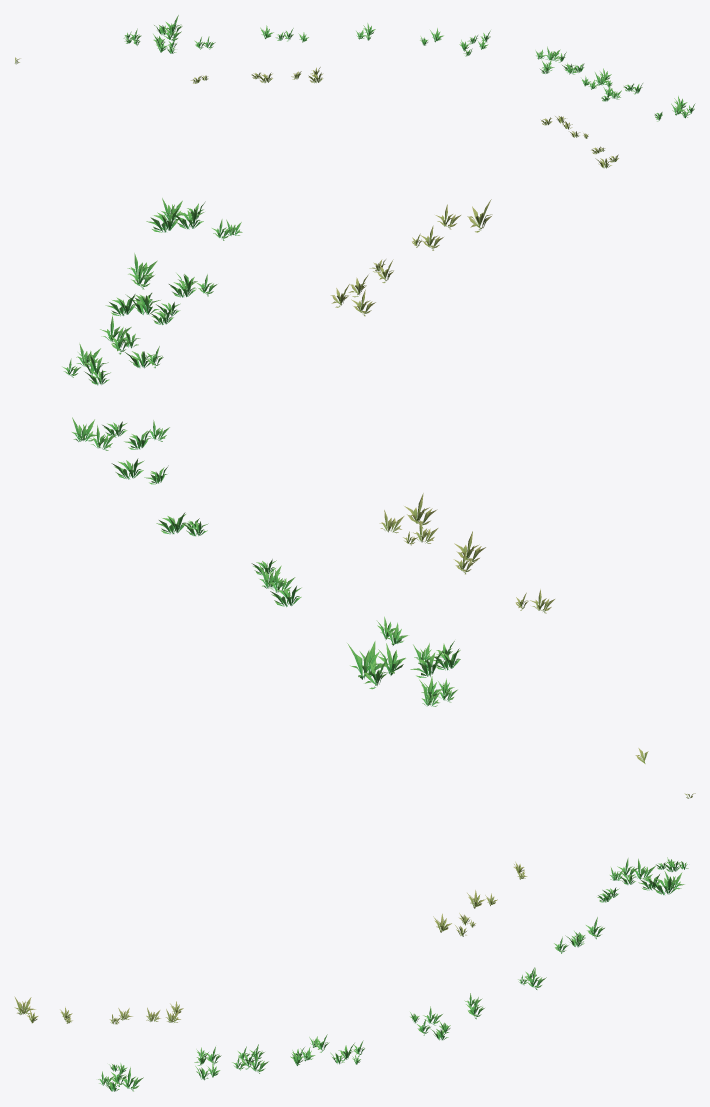
Rendered from area_11_10.fbx.
3 views of the same model, one above another, from view 1: azimuth 30°, elevation 25°; view 2: azimuth 150°, elevation 25°; view 3: azimuth 270°, elevation 25° (orthographic). The views are drawn at different scales.
Parts seen in each view (by area): view 1: area_11_10; view 2: area_11_10; view 3: area_11_10.
Part boxes in pixels (x1,y1,x2,y2): area_11_10: [15, 15, 695, 168]; area_11_10: [62, 198, 648, 763]; area_11_10: [14, 793, 695, 1091].
Bounding box in the file's own units: 44.45 × 1.64 × 43.21.
